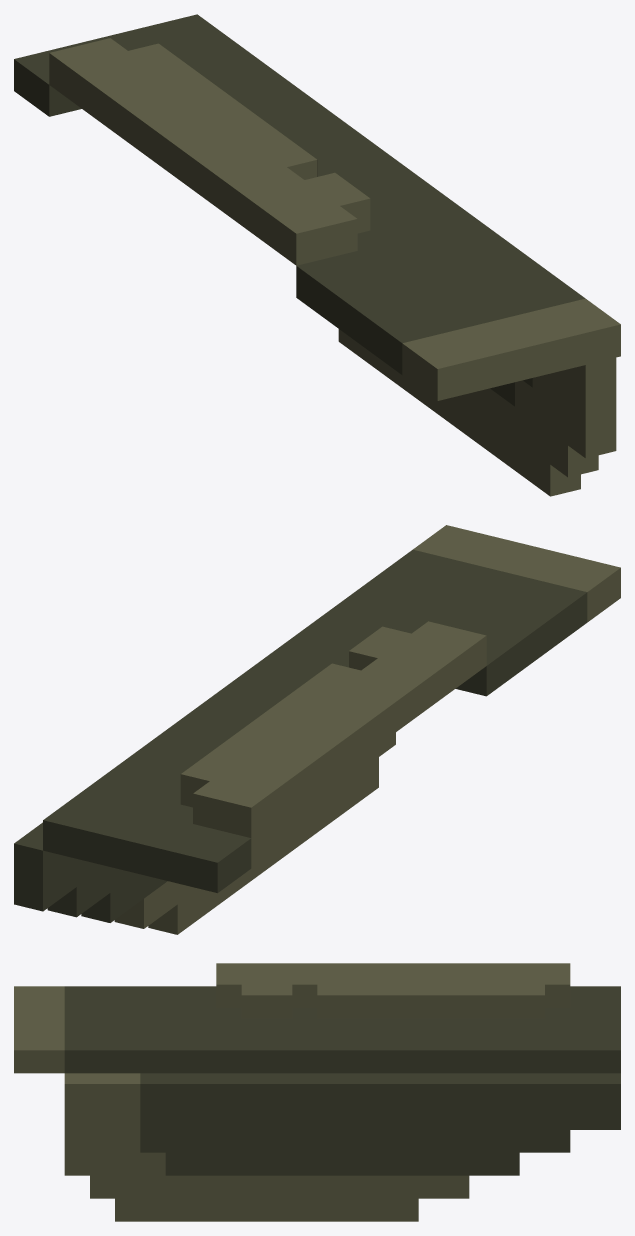
File: Extra-15-StarMarine_Hood_L.obj
The picture shows the model from 3 angles, top to bottom: view 1: azimuth 30°, elevation 25°; view 2: azimuth 150°, elevation 25°; view 3: azimuth 270°, elevation 25°; orthographic projection. The views are drawn at different scales.
Parts seen in each view (by area): view 1: StarMarine_Hood_L; view 2: StarMarine_Hood_L; view 3: StarMarine_Hood_L.
Boxes of the visible parts, x1=… form: StarMarine_Hood_L: x1=14, y1=14, x2=620, y2=496; StarMarine_Hood_L: x1=14, y1=525, x2=620, y2=934; StarMarine_Hood_L: x1=14, y1=963, x2=620, y2=1221.
Bounding box in the file's own units: 0.7 × 0.8 × 2.4.
1 material, 1 textured.
